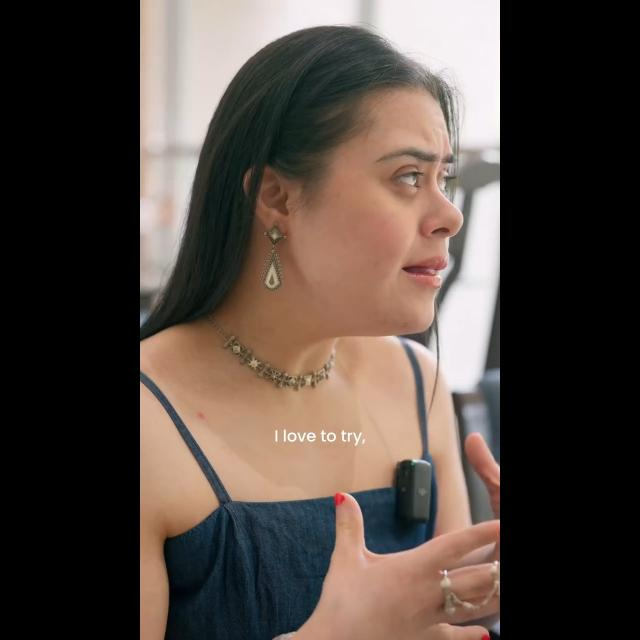ear ring: (262, 214, 290, 306)
